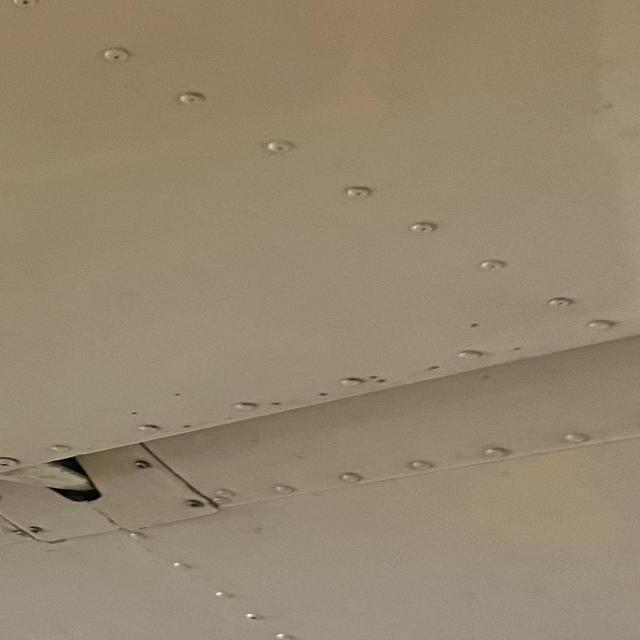Missing_Fastener: (0, 490, 3, 502)
